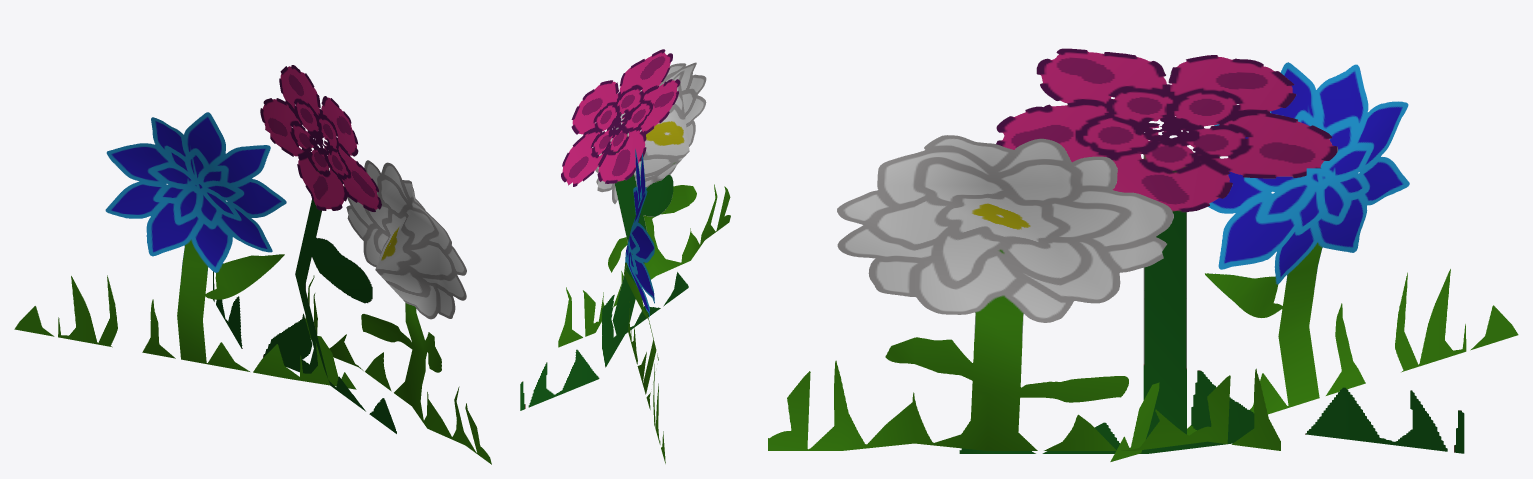
The model's file is Flower_Bed_5.fbx.
3 renders of one model, left to right at view 1: azimuth 30°, elevation 25°; view 2: azimuth 150°, elevation 25°; view 3: azimuth 270°, elevation 25°, orthographic. The views are drawn at different scales.
Parts seen in each view (by area): view 1: Flower11, Flower10, FlowerFive4; view 2: Flower10, FlowerFive4, Flower11; view 3: FlowerFive4, Flower10, Flower11.
Boxes of the visible parts, left/top/right/bottom form: Flower11: left=14, top=112, right=356, bottom=389; Flower10: left=213, top=65, right=396, bottom=433; FlowerFive4: left=305, top=160, right=491, bottom=464; Flower10: left=520, top=49, right=688, bottom=410; FlowerFive4: left=558, top=62, right=730, bottom=347; Flower11: left=624, top=149, right=665, bottom=463; FlowerFive4: left=768, top=135, right=1280, bottom=450; Flower10: left=959, top=48, right=1464, bottom=453; Flower11: left=1110, top=62, right=1518, bottom=461.
Size of the model in its own units: 0.6715 by 0.9235 by 1.46.
3 materials, 3 textured.
